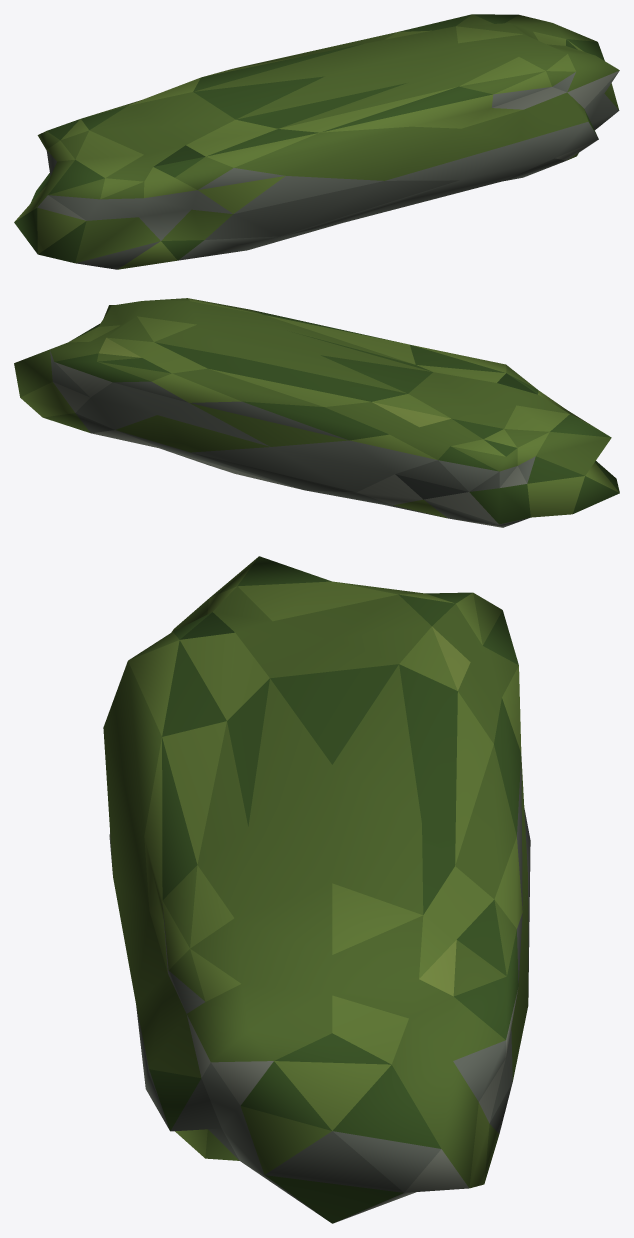
The model's file is forest-cascade-ledge-0.glb.
The picture shows the model from 3 angles, top to bottom: view 1: azimuth 30°, elevation 25°; view 2: azimuth 150°, elevation 25°; view 3: azimuth 270°, elevation 25°; orthographic projection. The views are drawn at different scales.
Visible parts, largest first — view 1: forest-cascade-ledge-0/0; view 2: forest-cascade-ledge-0/0; view 3: forest-cascade-ledge-0/0.
Part boxes in pixels (x1,y1,x2,y2): forest-cascade-ledge-0/0: (14, 14, 619, 269); forest-cascade-ledge-0/0: (14, 298, 619, 527); forest-cascade-ledge-0/0: (103, 556, 530, 1223).
Size of the model in its own units: 7.14 by 1.37 by 2.36.
